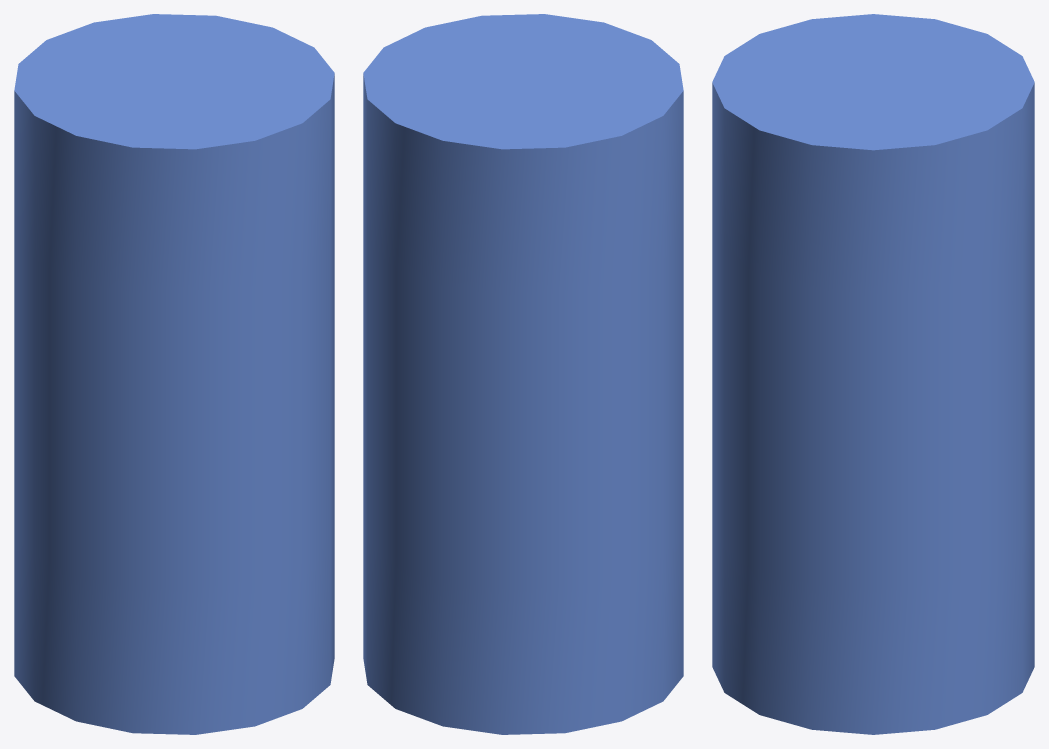
The model's file is asset.gltf.
3 views of the same model, side by side, from view 1: azimuth 30°, elevation 25°; view 2: azimuth 150°, elevation 25°; view 3: azimuth 270°, elevation 25° (orthographic).
Visible parts, largest first — view 1: Cylinder; view 2: Cylinder; view 3: Cylinder.
Part boxes in pixels (x1,y1,x2,y2): Cylinder: (14, 14, 334, 734); Cylinder: (363, 14, 683, 734); Cylinder: (712, 14, 1034, 734).
Bounding box in the file's own units: 100 × 200 × 100.
